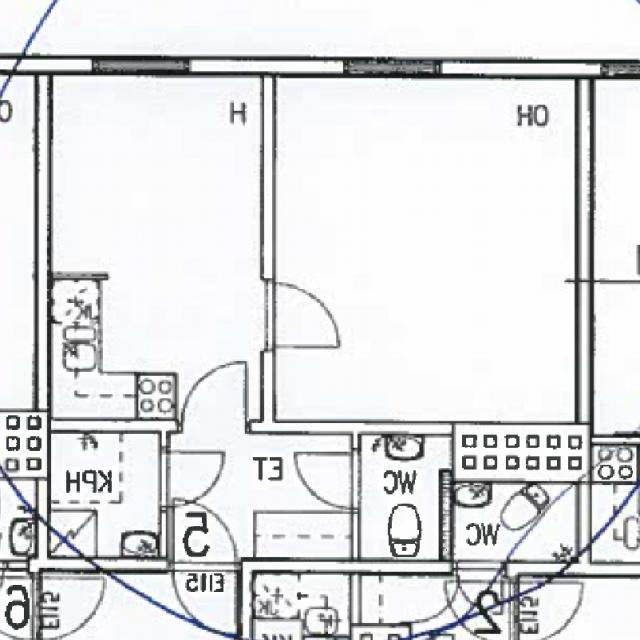door: (262, 283, 342, 348), (172, 496, 236, 572), (172, 558, 236, 634), (182, 359, 246, 434), (294, 452, 360, 510), (160, 451, 226, 507)
